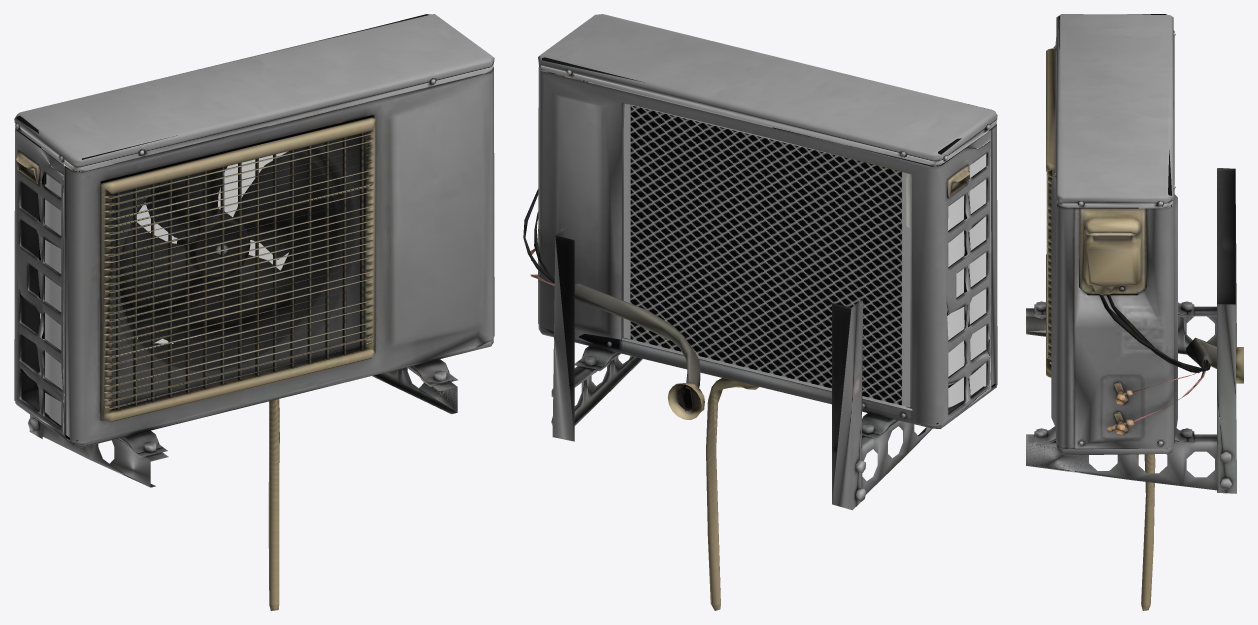
File: prop-aircon.glb
3 views of the same model, side by side, from view 1: azimuth 30°, elevation 25°; view 2: azimuth 150°, elevation 25°; view 3: azimuth 270°, elevation 25° (orthographic). The views are drawn at different scales.
Visible parts, largest first — view 1: prop-aircon; view 2: prop-aircon; view 3: prop-aircon.
Boxes of the visible parts, bbox=[...] form: prop-aircon: bbox=[14, 14, 494, 610]; prop-aircon: bbox=[523, 14, 997, 610]; prop-aircon: bbox=[1026, 14, 1243, 610].
Bounding box in the file's own units: 0.796 × 0.9279 × 0.3742.
Materials: 2 (2 with a texture image).
